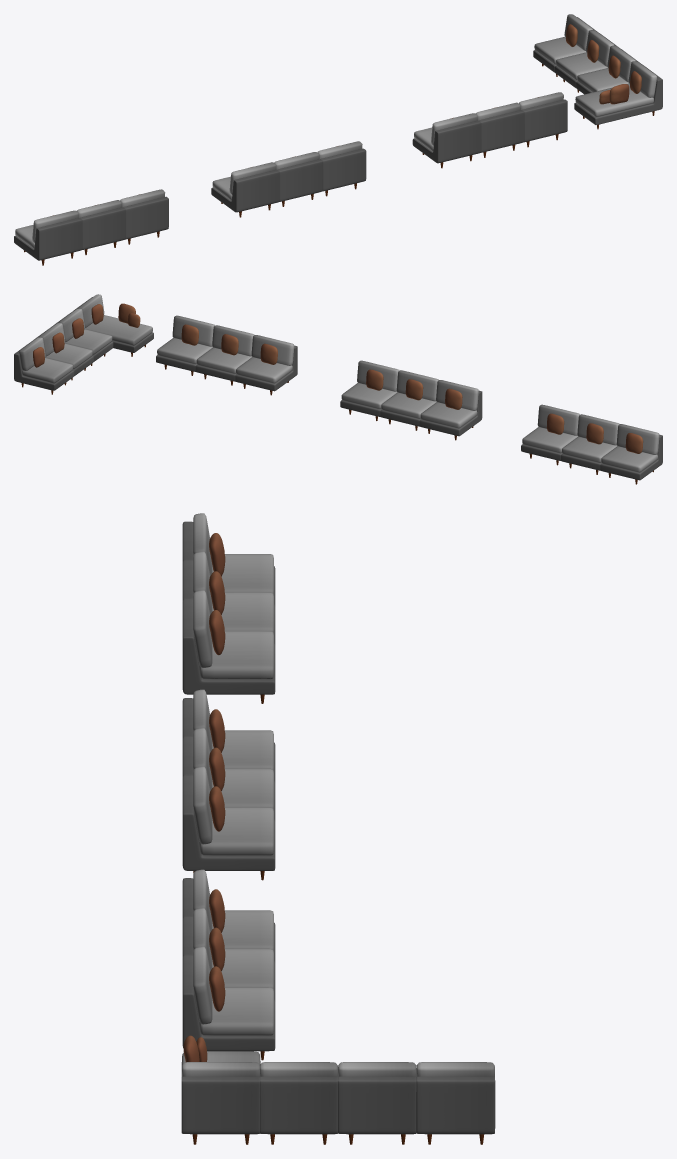
Rendered from sillones.fbx.
3 views of the same model, one above another, from view 1: azimuth 30°, elevation 25°; view 2: azimuth 150°, elevation 25°; view 3: azimuth 270°, elevation 25° (orthographic). The views are drawn at different scales.
Visible parts, largest first — view 1: polySurface38.011, polySurface38.002, polySurface38.009, polySurface38.006, polySurface38.010, polySurface38.003, polySurface38.007, polySurface38.001, polySurface38.005, polySurface38.008, polySurface38.013, polySurface38.004 (+1 smaller); view 2: polySurface38.006, polySurface38.002, polySurface38.009, polySurface38.007, polySurface38.003, polySurface38.010, polySurface38.001, polySurface38.005, polySurface38.008, polySurface38.004, polySurface38.011, polySurface38.012 (+1 smaller); view 3: polySurface38.007, polySurface38.010, polySurface38.003, polySurface38.011, polySurface38.004, polySurface38.013, polySurface38.012, polySurface38.001, polySurface38.005, polySurface38.008, polySurface38.009, polySurface38.002 (+1 smaller).
Part boxes in pixels (<box>): polySurface38.011: <box>574,61,662,129</box>; polySurface38.002: <box>412,113,481,168</box>; polySurface38.009: <box>14,210,82,265</box>; polySurface38.006: <box>211,162,279,217</box>; polySurface38.010: <box>120,189,168,244</box>; polySurface38.003: <box>519,92,567,147</box>; polySurface38.007: <box>317,141,366,196</box>; polySurface38.001: <box>475,102,524,157</box>; polySurface38.005: <box>274,152,322,206</box>; polySurface38.008: <box>77,200,125,254</box>; polySurface38.013: <box>554,30,619,92</box>; polySurface38.004: <box>533,14,598,76</box>; polySurface38.006: <box>419,380,482,440</box>; polySurface38.002: <box>235,335,297,395</box>; polySurface38.009: <box>600,424,662,484</box>; polySurface38.007: <box>340,360,399,420</box>; polySurface38.003: <box>156,315,214,375</box>; polySurface38.010: <box>521,404,580,465</box>; polySurface38.001: <box>195,325,254,385</box>; polySurface38.005: <box>380,370,438,430</box>; polySurface38.008: <box>561,414,619,474</box>; polySurface38.004: <box>14,337,74,394</box>; polySurface38.011: <box>73,294,153,356</box>; polySurface38.012: <box>53,308,113,365</box>; polySurface38.007: <box>182,766,275,880</box>; polySurface38.010: <box>182,590,275,703</box>; polySurface38.003: <box>182,946,275,1060</box>; polySurface38.011: <box>181,1051,260,1144</box>; polySurface38.004: <box>416,1062,495,1144</box>; polySurface38.013: <box>338,1062,416,1144</box>; polySurface38.012: <box>259,1062,337,1144</box>; polySurface38.001: <box>182,908,275,1001</box>; polySurface38.005: <box>182,728,275,820</box>; polySurface38.008: <box>182,551,275,644</box>; polySurface38.009: <box>182,513,275,605</box>; polySurface38.002: <box>182,869,275,962</box>.
Bounding box in the file's own units: 6823 × 468 × 1623.
Materials: 1 (1 with a texture image).
